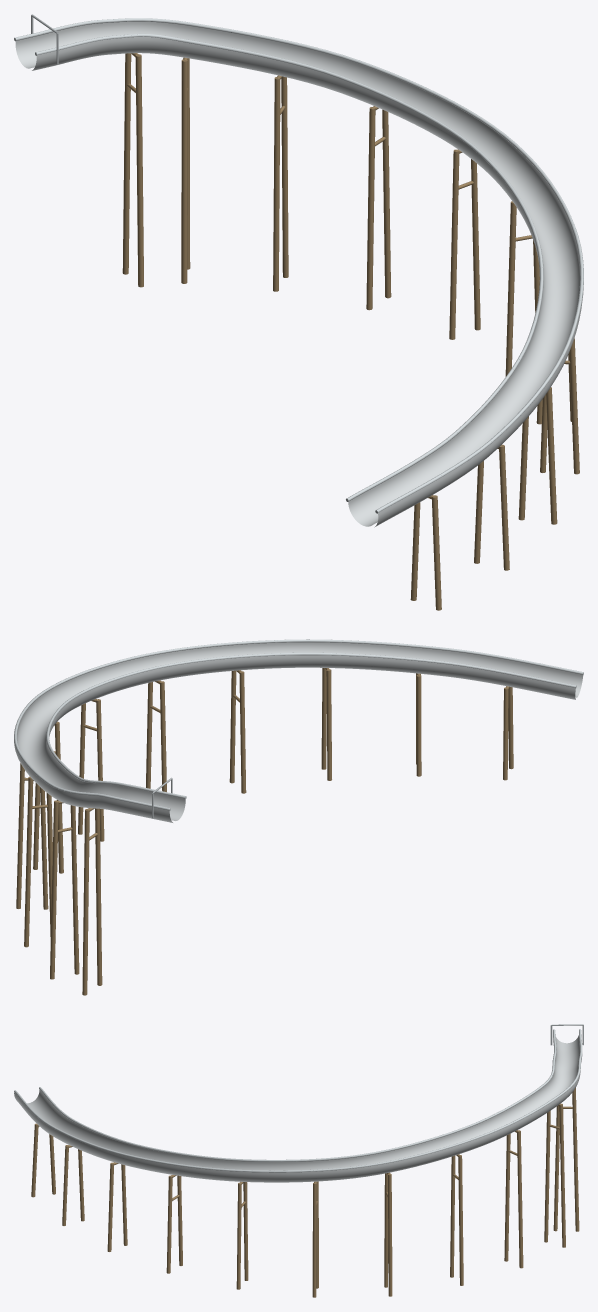
The model's file is slide.glb.
3 views of the same model, one above another, from view 1: azimuth 30°, elevation 25°; view 2: azimuth 150°, elevation 25°; view 3: azimuth 270°, elevation 25° (orthographic). The views are drawn at different scales.
Visible parts, largest first — view 1: slide, leg_168, leg_164, leg_163, leg_172, leg_176, leg_171, leg_180, leg_175, leg_184, leg_179, leg_195 (+3 smaller); view 2: slide, leg_163, leg_167, leg_164, leg_171, leg_168, leg_175, leg_192, leg_176, leg_199, leg_196, leg_191 (+8 smaller); view 3: slide, leg_167, leg_163, leg_171, leg_175, leg_172, leg_168, leg_176, leg_179, leg_164, leg_183, leg_180 (+6 smaller).
Part boxes in pixels (x1,y1,x2,y2): slide: (15,21,583,527); leg_168: (181,59,187,283); leg_164: (135,54,143,287); leg_163: (122,53,131,274); leg_172: (273,77,280,291); leg_176: (366,107,375,310); leg_171: (281,76,288,277); leg_180: (449,149,459,339); leg_175: (382,109,391,298); leg_184: (505,201,516,376); leg_179: (471,159,480,330); leg_195: (546,387,557,524); slide: (14,642,583,822); leg_163: (82,809,89,995); leg_167: (50,800,58,979); leg_164: (95,808,102,985); leg_171: (24,776,33,947); leg_168: (70,805,79,974); leg_175: (16,763,24,908); leg_192: (239,671,246,793); leg_176: (40,787,48,909); leg_199: (416,675,421,776); leg_196: (326,669,331,780); leg_191: (229,670,236,783); slide: (14,1035,582,1182); leg_167: (559,1103,565,1247); leg_163: (572,1087,579,1231); leg_171: (517,1130,523,1268); leg_175: (458,1155,463,1285); leg_172: (504,1133,510,1261); leg_168: (544,1110,550,1242); leg_176: (450,1155,455,1277); leg_179: (388,1173,392,1296); leg_164: (553,1106,559,1231); leg_183: (312,1183,316,1297); leg_180: (384,1173,388,1287).
Bounding box in the file's own units: 12.59 × 8.07 × 23.34.
